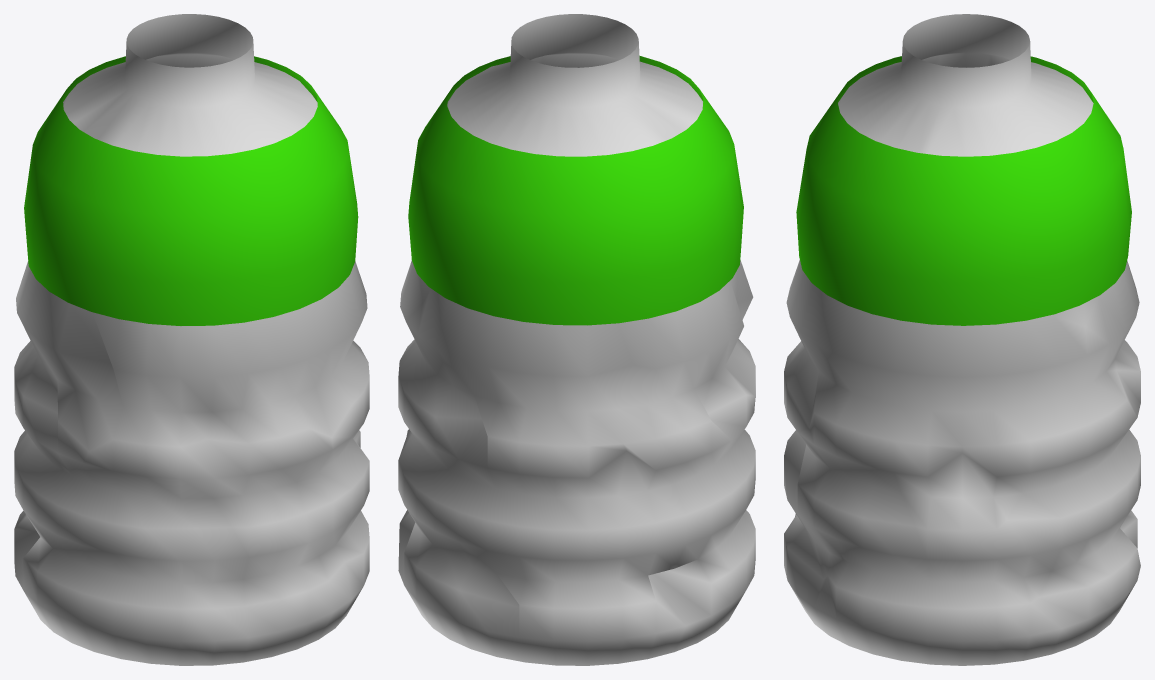
Rendered from bottle1.fbx.
The picture shows the model from 3 angles, left to right: view 1: azimuth 30°, elevation 25°; view 2: azimuth 150°, elevation 25°; view 3: azimuth 270°, elevation 25°; orthographic projection.
Parts seen in each view (by area): view 1: Cylinder.001; view 2: Cylinder.001; view 3: Cylinder.001.
Boxes of the visible parts, bbox=[...] form: Cylinder.001: bbox=[14, 14, 369, 665]; Cylinder.001: bbox=[398, 14, 755, 665]; Cylinder.001: bbox=[784, 14, 1140, 665].
Bounding box in the file's own units: 46.28 × 79.76 × 46.28.
